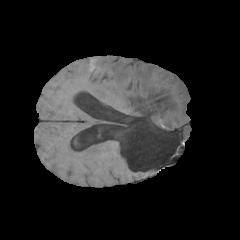glioma: (99, 63, 189, 170)
